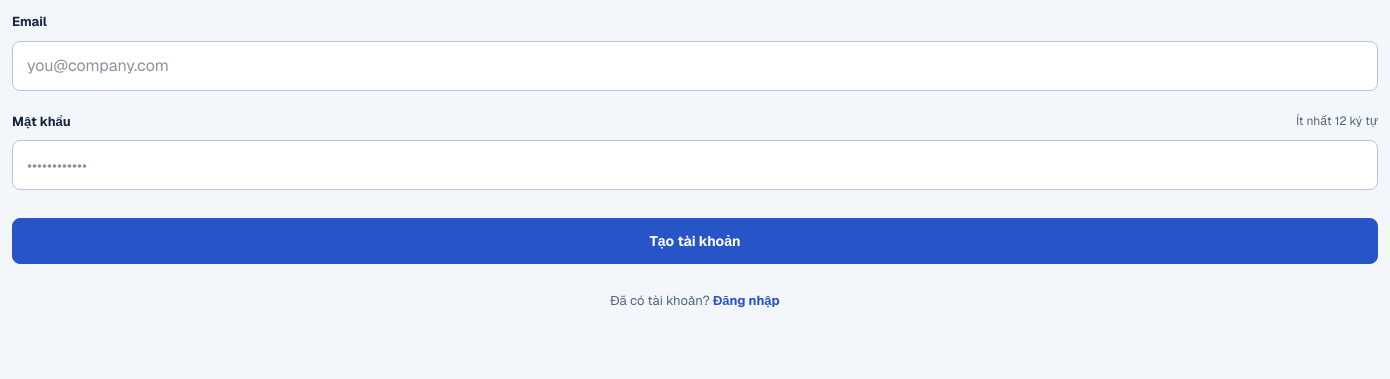
Test: AuthForm › shows validation errors and does not submit short passwords
Type "bad" into the field labelled "Email" at (695,66), box x1=12 y1=40 x2=1378 y2=90
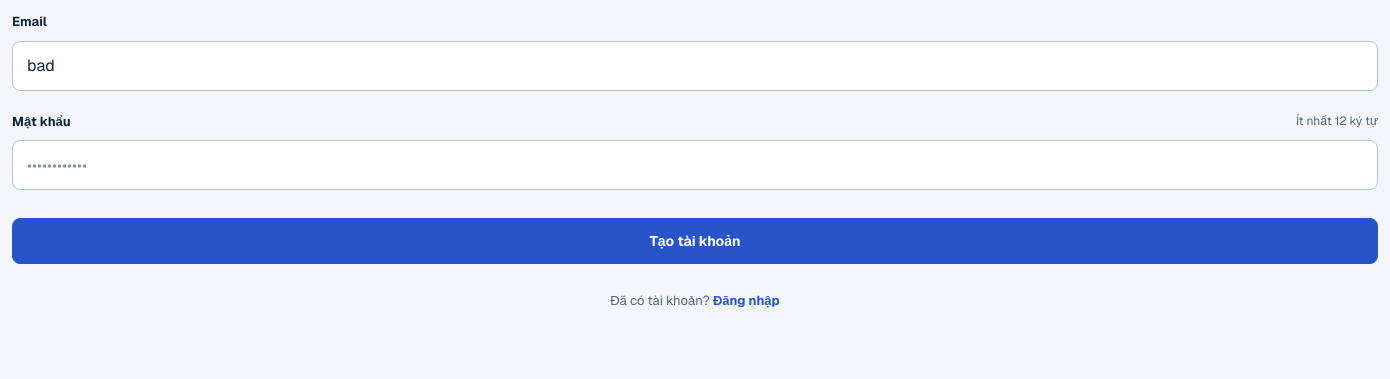
Type "short" into the password field labelled "Mật khẩu" at (695,165), box x1=12 y1=140 x2=1378 y2=190
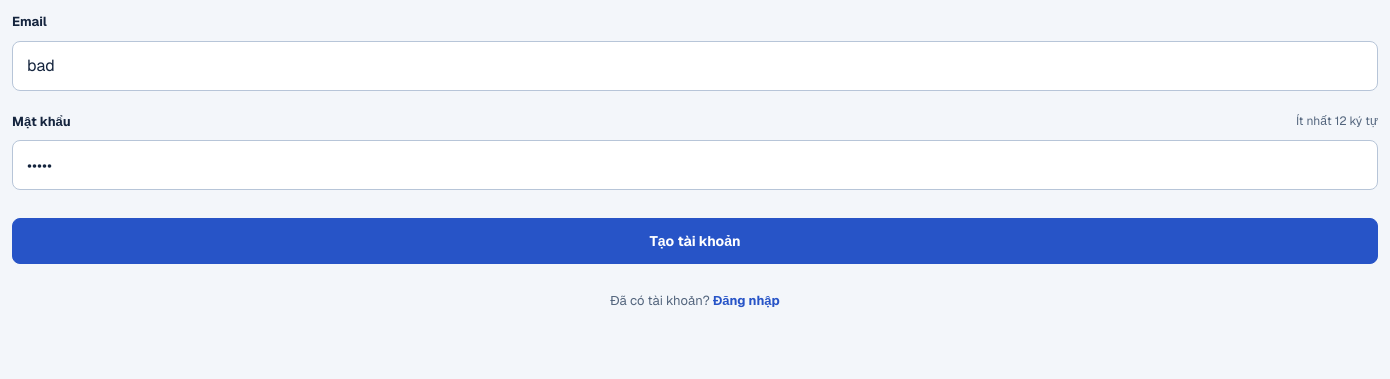
Click the button "Tạo tài khoản" at (695,241), box x1=12 y1=218 x2=1378 y2=264
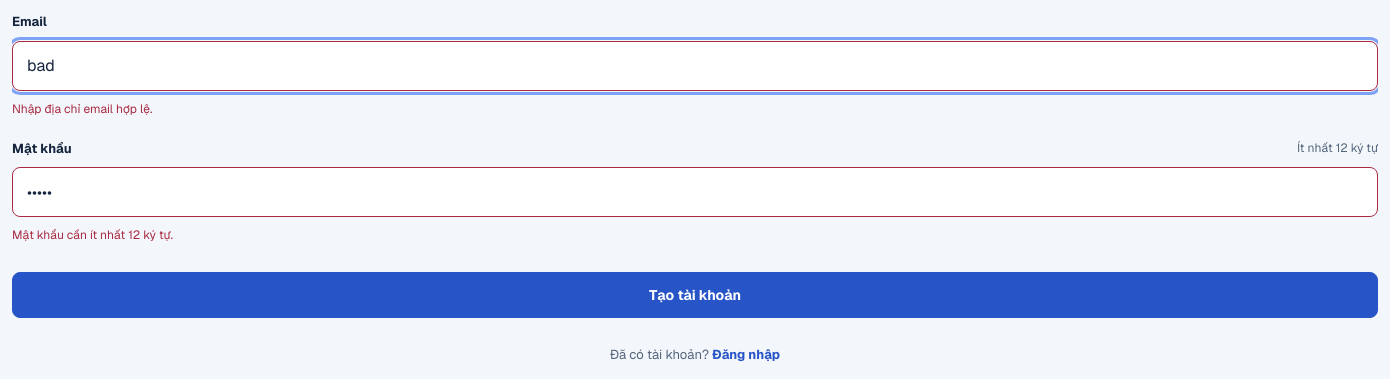
Check: the text "Nhập địa chỉ email hợp lệ." is shown, box x1=12 y1=100 x2=152 y2=116
Check: the text "Mật khẩu cần ít nhất 12 ký tự." is shown, box x1=12 y1=227 x2=173 y2=243
